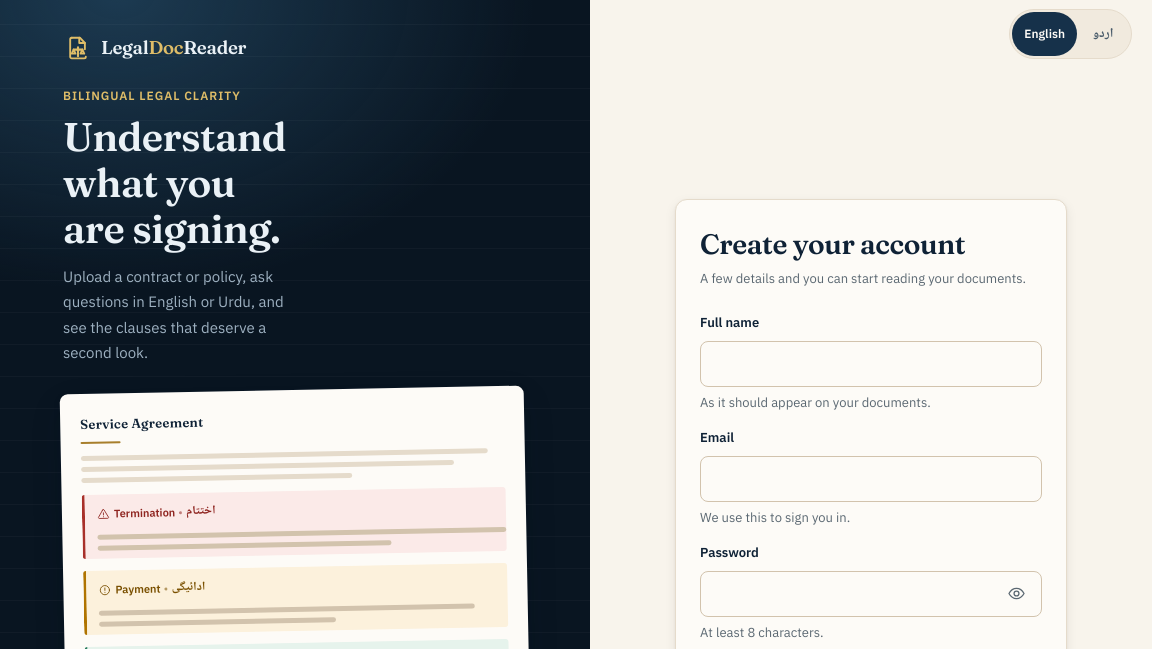
Test: SignUp form › falls back to a banner when a 422 names a field the form does not own
In the field labelled "Full name": (871, 364) [700,341,1042,387], type "Ayesha Khan"
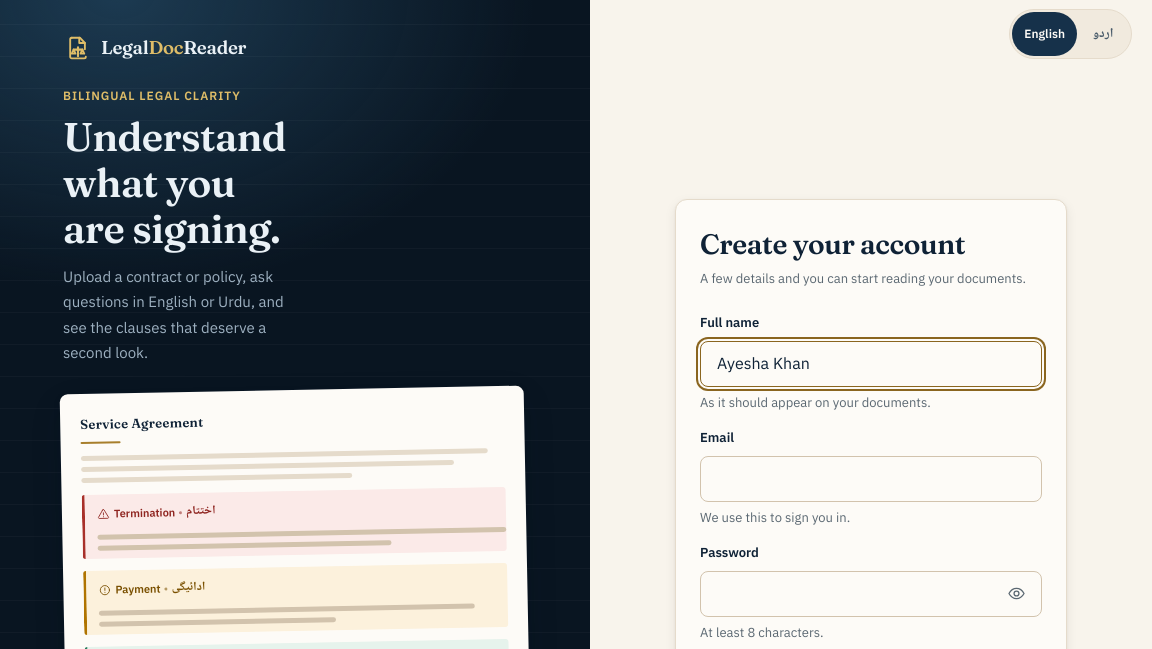
In the field labelled "Email": (871, 479) [700,456,1042,502], type "ayesha@example.com"
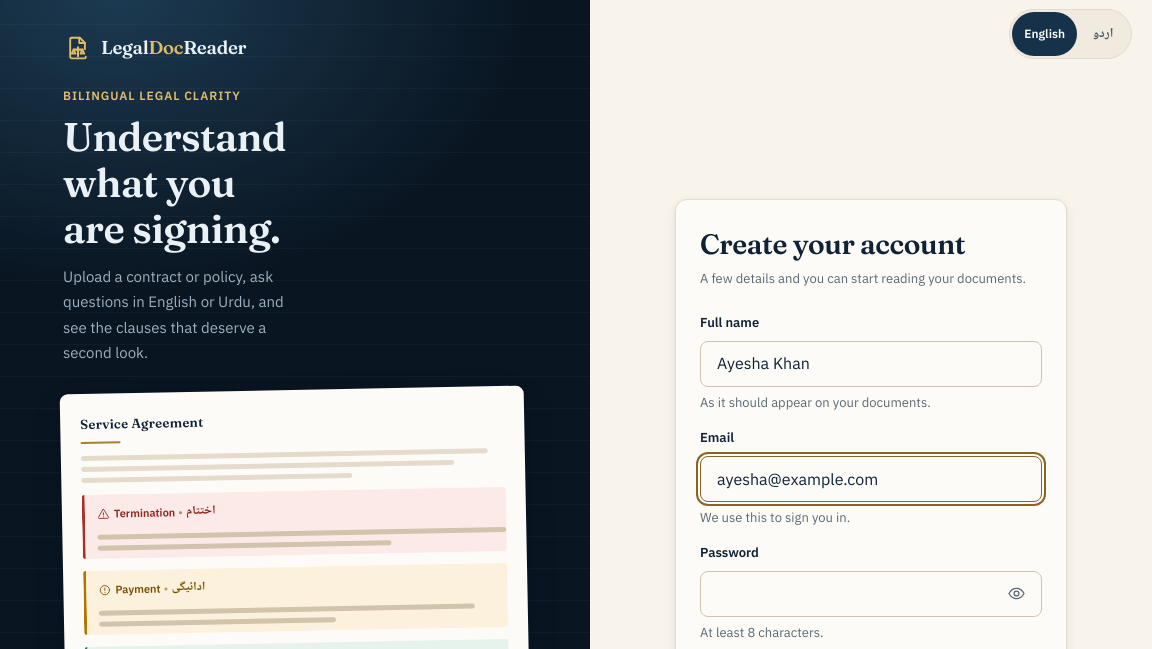
In the password field with id "signup-password": (871, 594) [700,571,1042,617], type "S3cure-pass!"
(page scrolled)
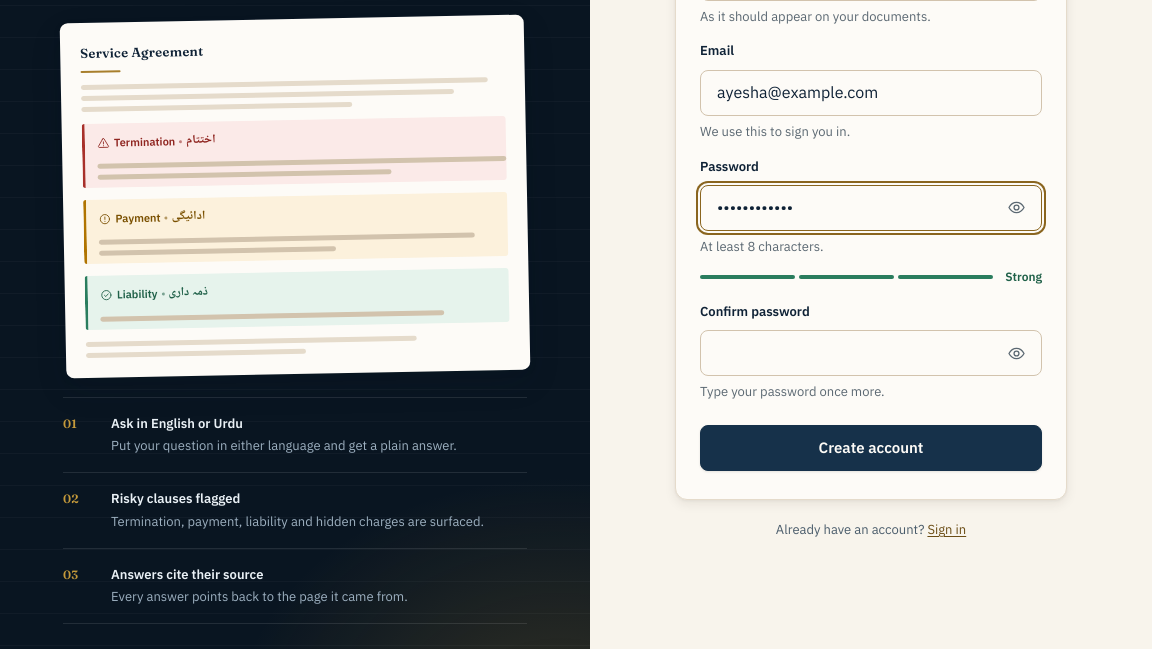
In the password field with id "signup-confirm-password": (871, 353) [700,330,1042,376], type "S3cure-pass!"
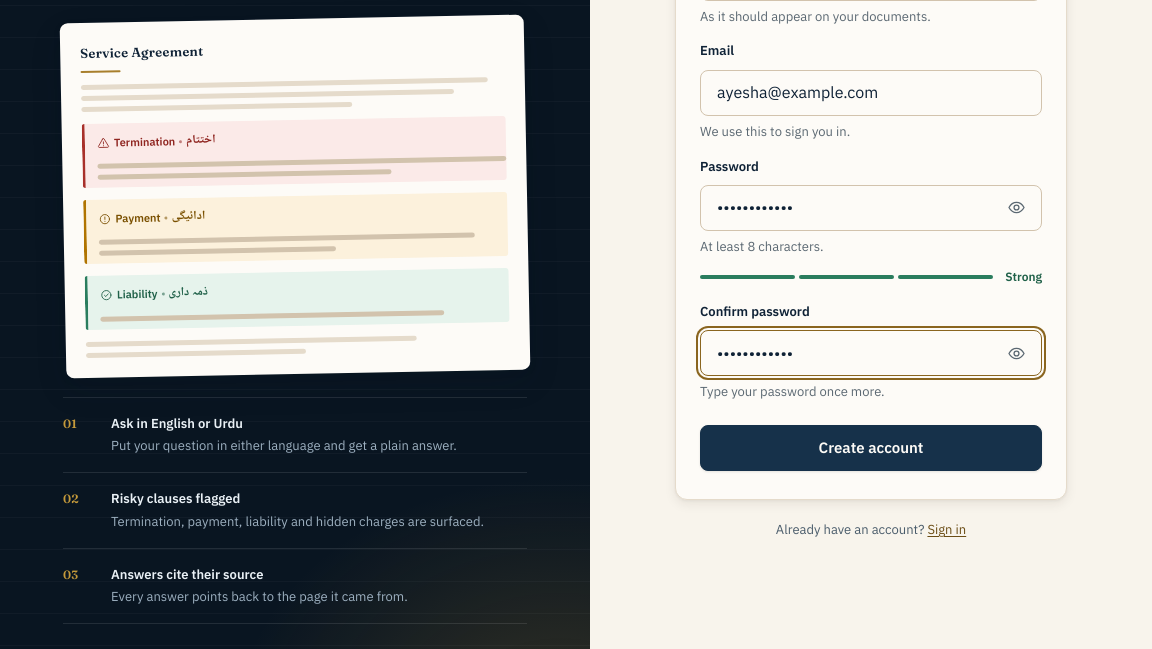
Click the button "Create account": (871, 448) [700,425,1042,471]
(page scrolled)
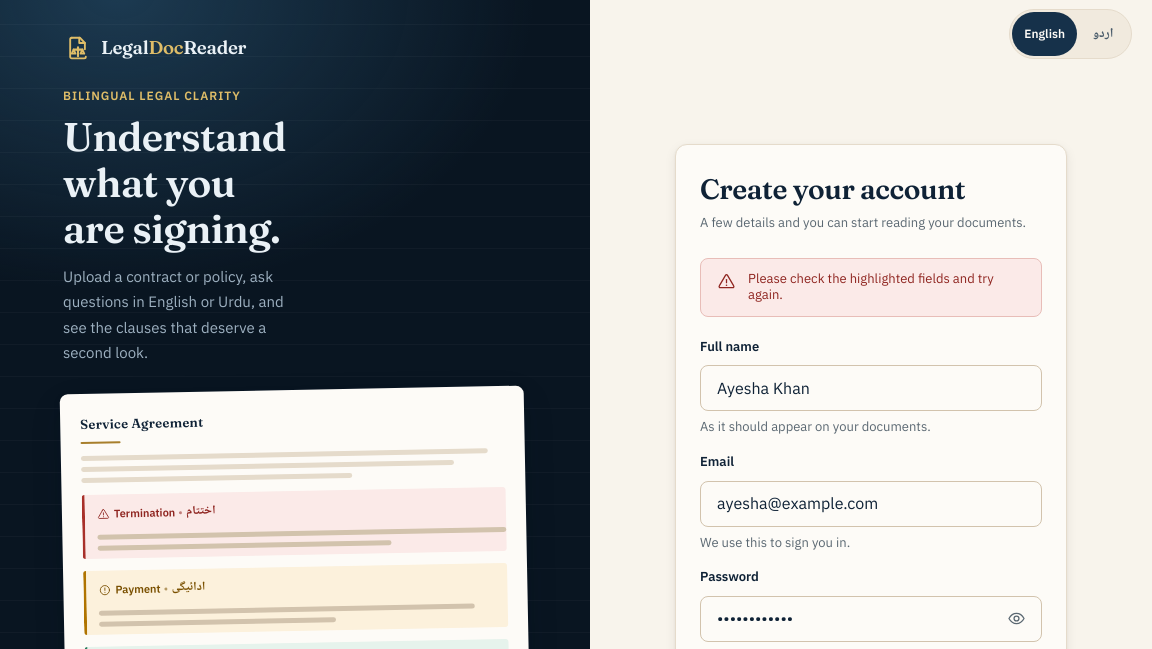
Now the message reads "Please check the highlighted fields and try again.", box [748,270,994,303]
